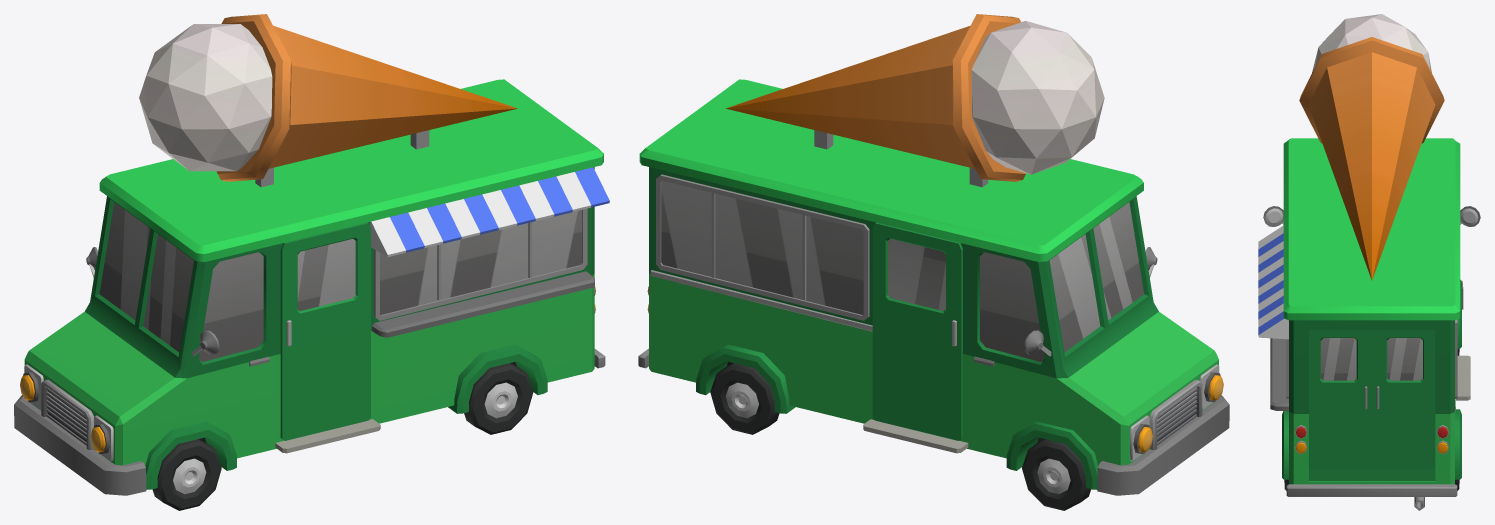
Rendered from IceTruck_1_G.fbx.
3 views of the same model, side by side, from view 1: azimuth 30°, elevation 25°; view 2: azimuth 150°, elevation 25°; view 3: azimuth 270°, elevation 25° (orthographic). The views are drawn at different scales.
Parts seen in each view (by area): view 1: IceTruck_1_G, RL, FL; view 2: IceTruck_1_G, RR, FR; view 3: IceTruck_1_G.
Boxes of the visible parts, bbox=[...] form: IceTruck_1_G: bbox=[14, 14, 609, 495]; RL: bbox=[464, 363, 533, 434]; FL: bbox=[152, 439, 221, 510]; IceTruck_1_G: bbox=[638, 14, 1229, 495]; RR: bbox=[710, 363, 779, 434]; FR: bbox=[1022, 439, 1090, 510]; IceTruck_1_G: bbox=[1258, 14, 1480, 510].
Size of the model in its own units: 416 by 338 by 184.
